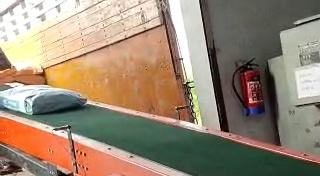box: (0, 85, 86, 114)
